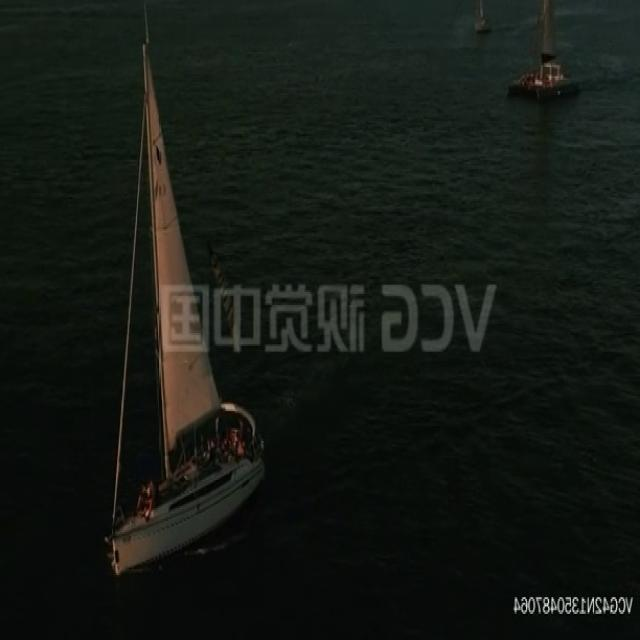sailboat: (102, 24, 264, 570), (508, 0, 590, 106), (472, 0, 494, 35)
